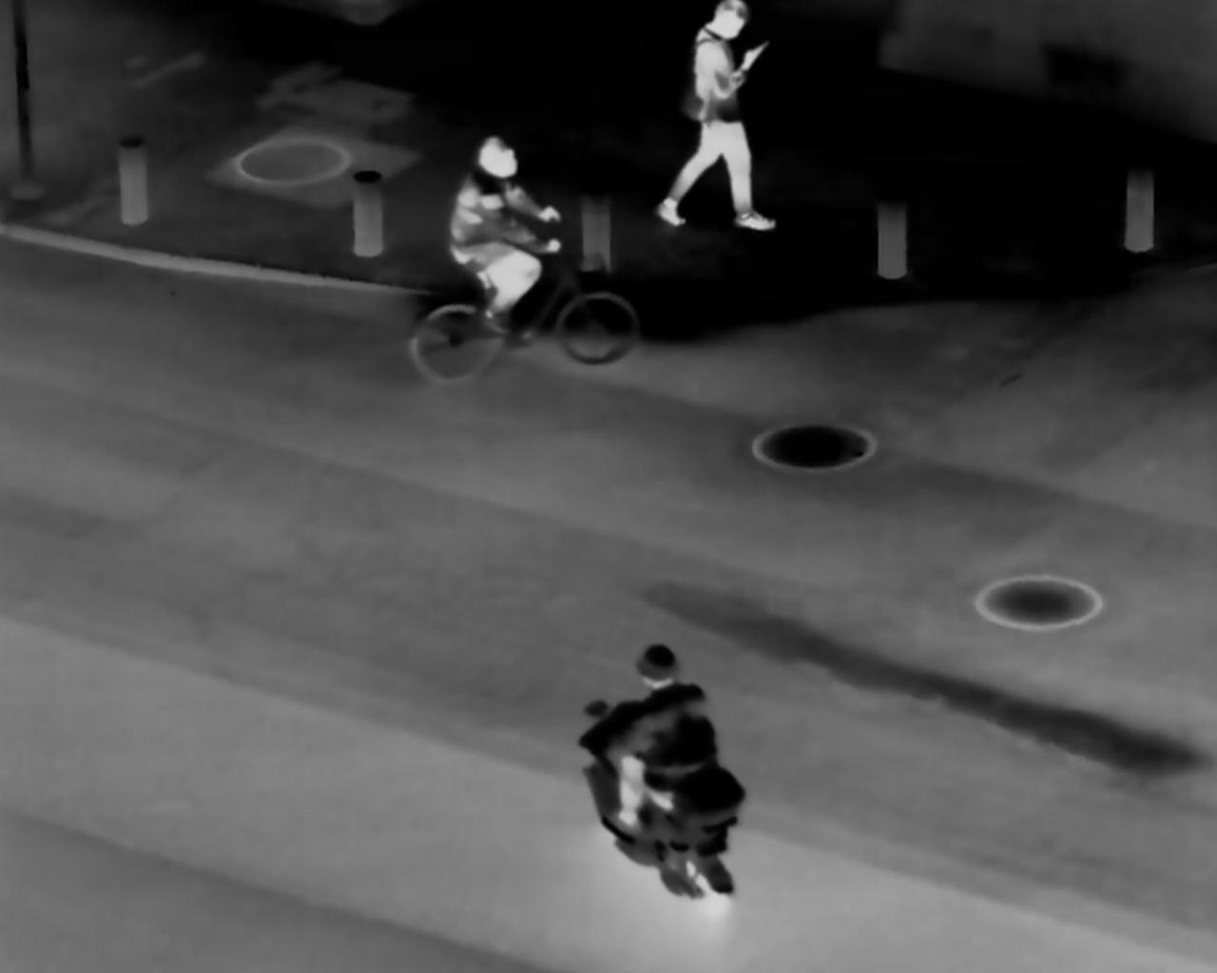person: (587, 633, 714, 834), (669, 4, 780, 232), (441, 128, 561, 331)
